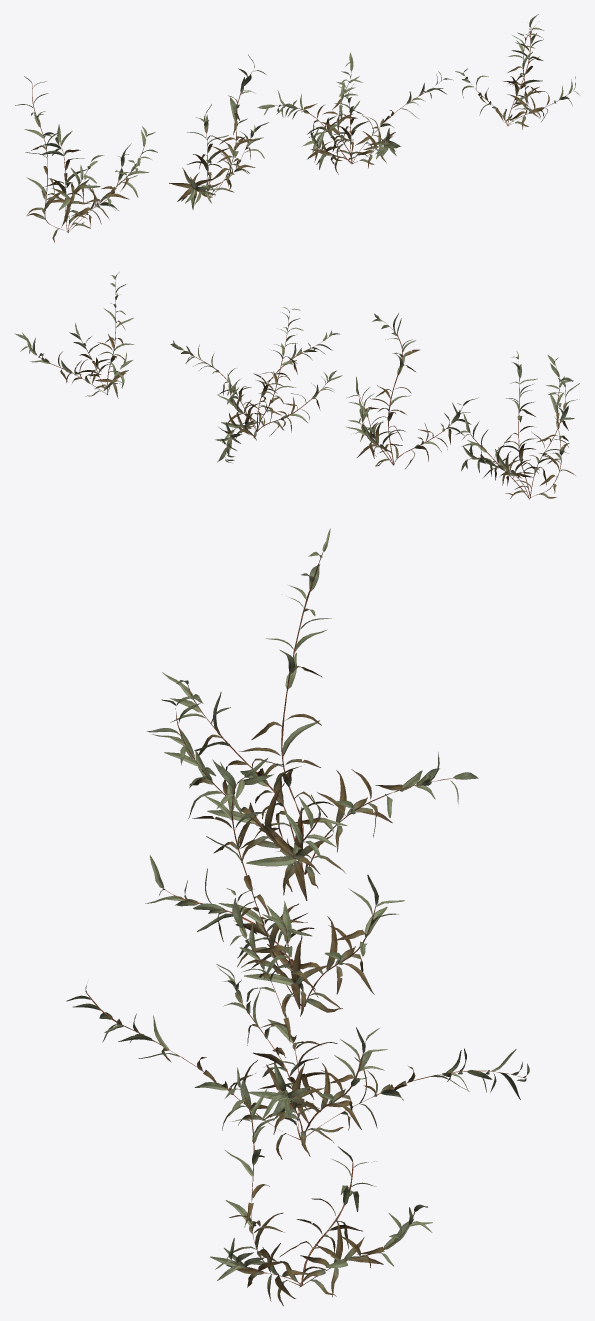
File: shrub_02.glb
3 renders of one model, top to bottom at view 1: azimuth 30°, elevation 25°; view 2: azimuth 150°, elevation 25°; view 3: azimuth 270°, elevation 25°, orthographic. The views are drawn at different scales.
Parts seen in each view (by area): view 1: shrub_02_a; view 2: shrub_02_a; view 3: shrub_02_a.
Boxes of the visible parts, left/top/right/bottom form: shrub_02_a: left=15, top=14, right=579, bottom=242; shrub_02_a: left=14, top=272, right=579, bottom=499; shrub_02_a: left=66, top=528, right=529, bottom=1306.
Bounding box in the file's own units: 6.05 × 1.7 × 2.29.
1 material, 1 textured.
